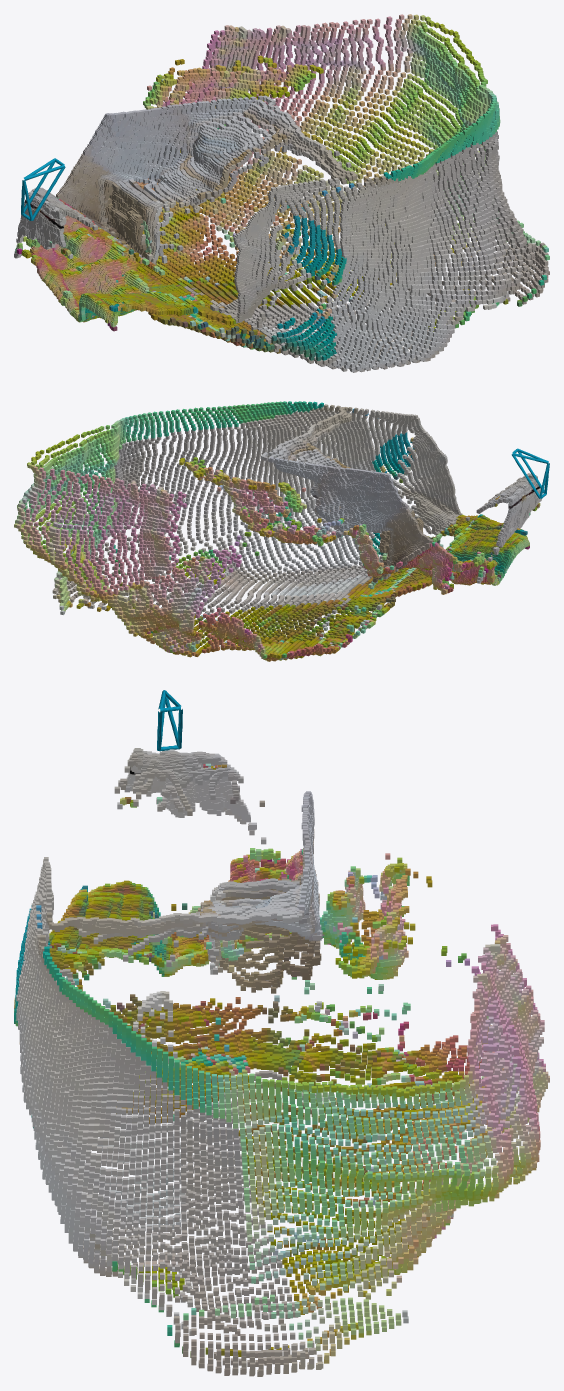
The model's file is pred_0-compressed.glb.
The picture shows the model from 3 angles, top to bottom: view 1: azimuth 30°, elevation 25°; view 2: azimuth 150°, elevation 25°; view 3: azimuth 270°, elevation 25°; orthographic projection. The views are drawn at different scales.
Size of the model in its own units: 7.94 by 3.79 by 5.14.
